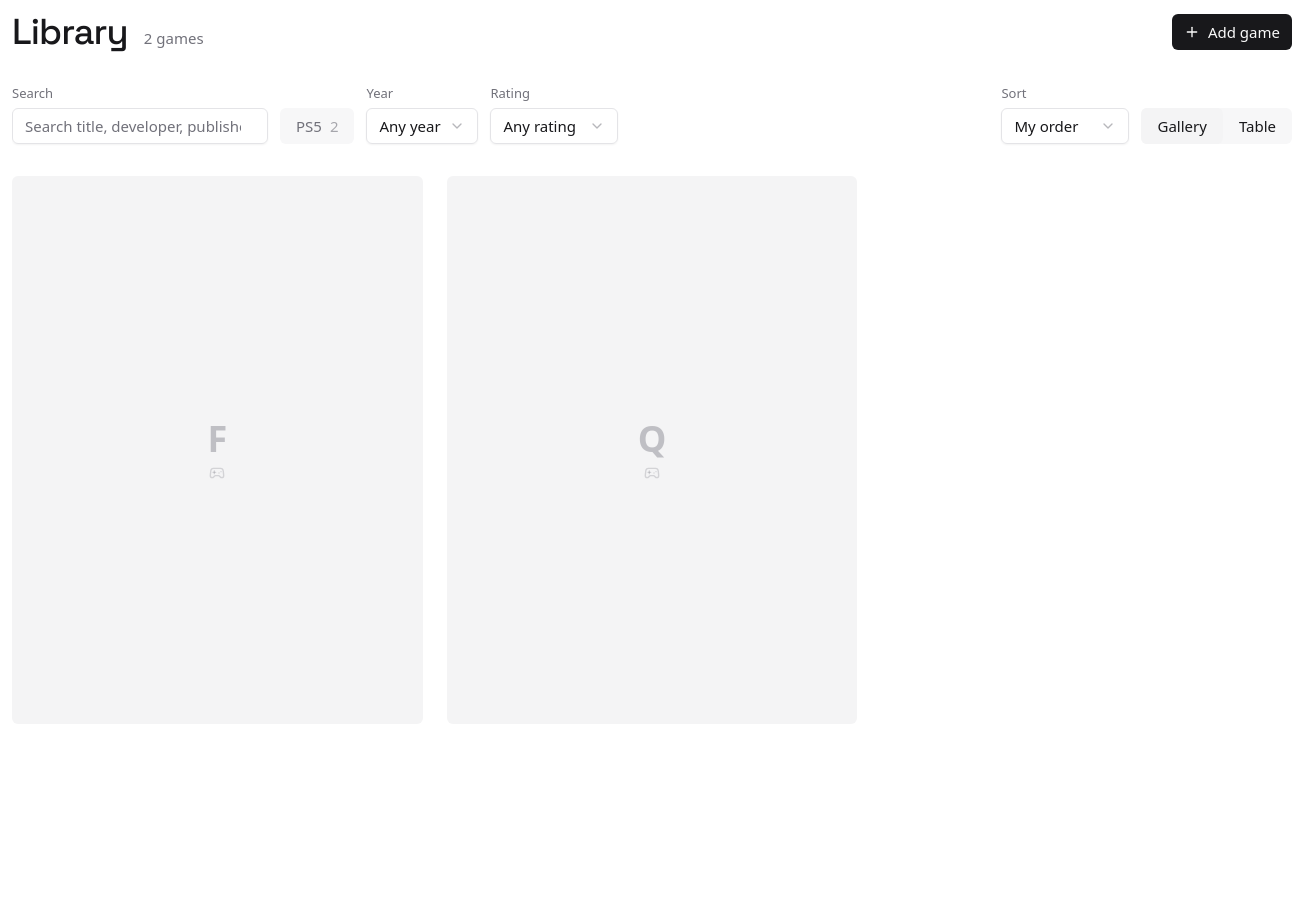
LibraryView › shows a searchable count that reflects the active filter
This screenshot has width=1304, height=912.
In the search field labelled "Search title, developer, publisher…": (140, 126) [12,108,268,144], type "Queued"
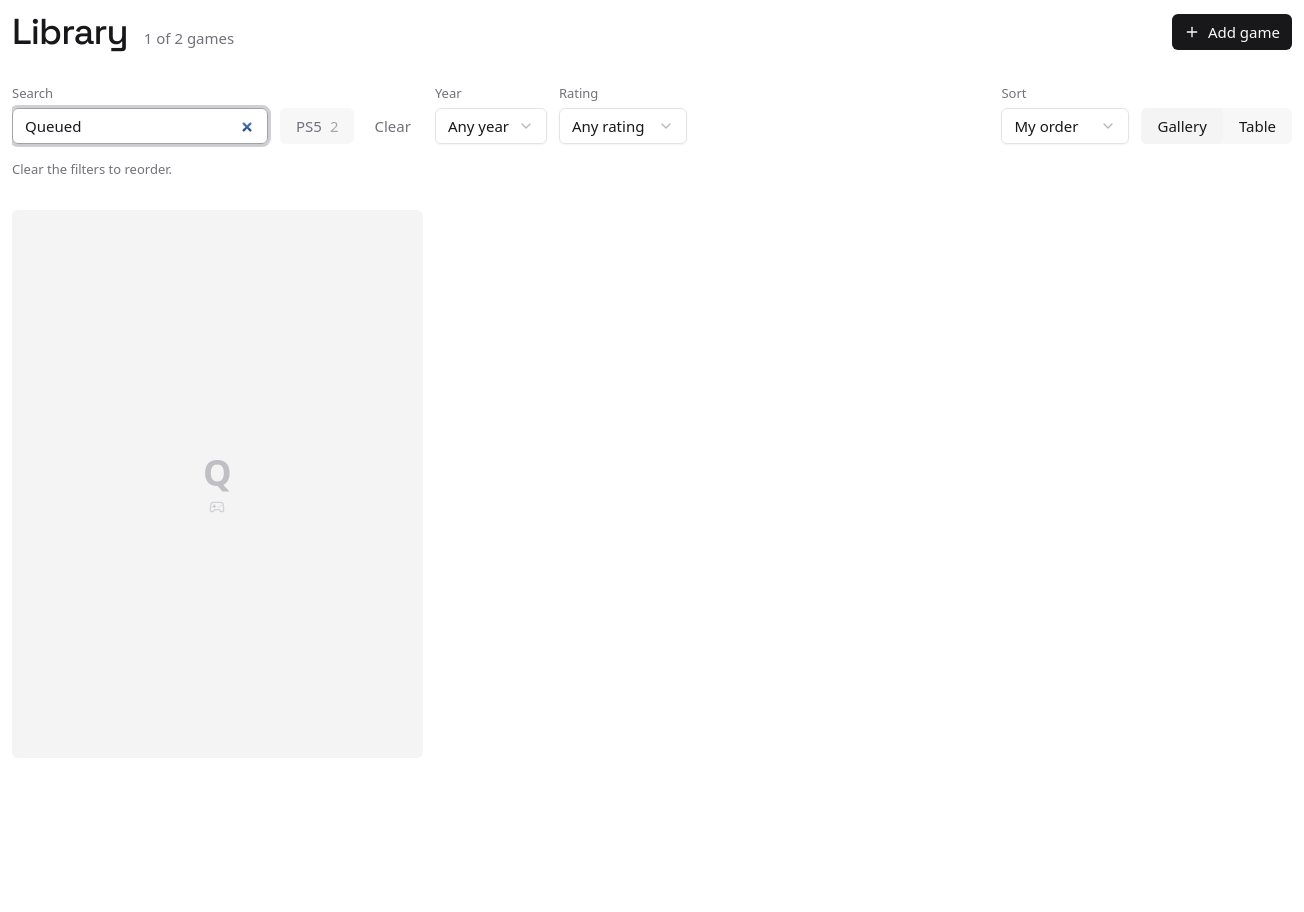
Check: the text "1 of 2 games" is shown, box [144,27,234,50]
